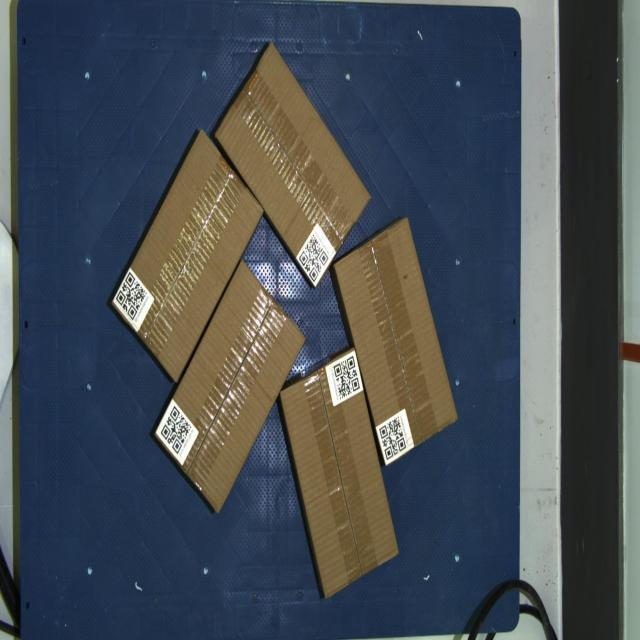box: (111, 128, 264, 382), (154, 259, 306, 514), (215, 41, 371, 289), (334, 217, 458, 466), (280, 348, 399, 598)
